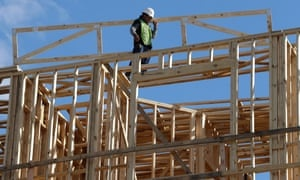white: (142, 6, 154, 22)
